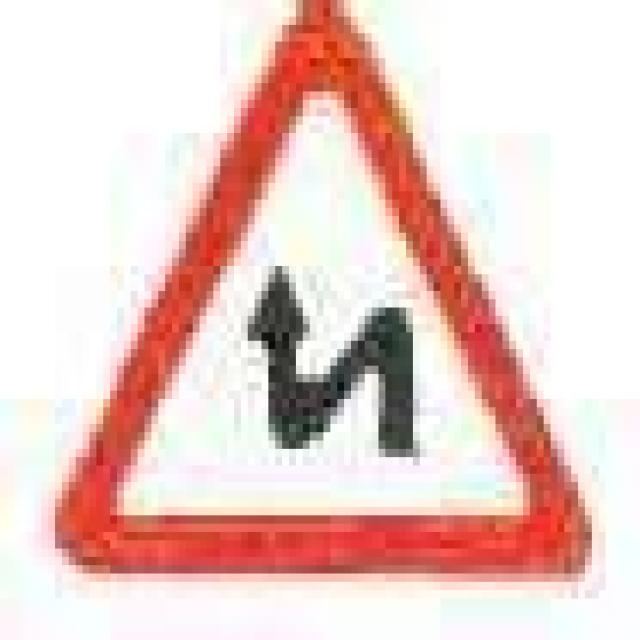LEFT_REVERSE_BEND: (56, 0, 592, 577)
